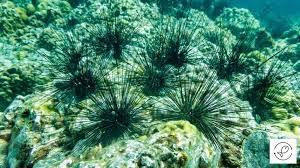urchin: (149, 77, 240, 146), (62, 82, 148, 152), (230, 59, 291, 126), (79, 12, 148, 69), (192, 37, 257, 86), (39, 34, 99, 79), (126, 54, 181, 103), (151, 21, 193, 71), (60, 70, 109, 103)
